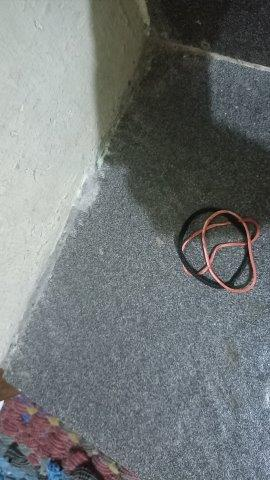karet: (177, 207, 261, 292)
